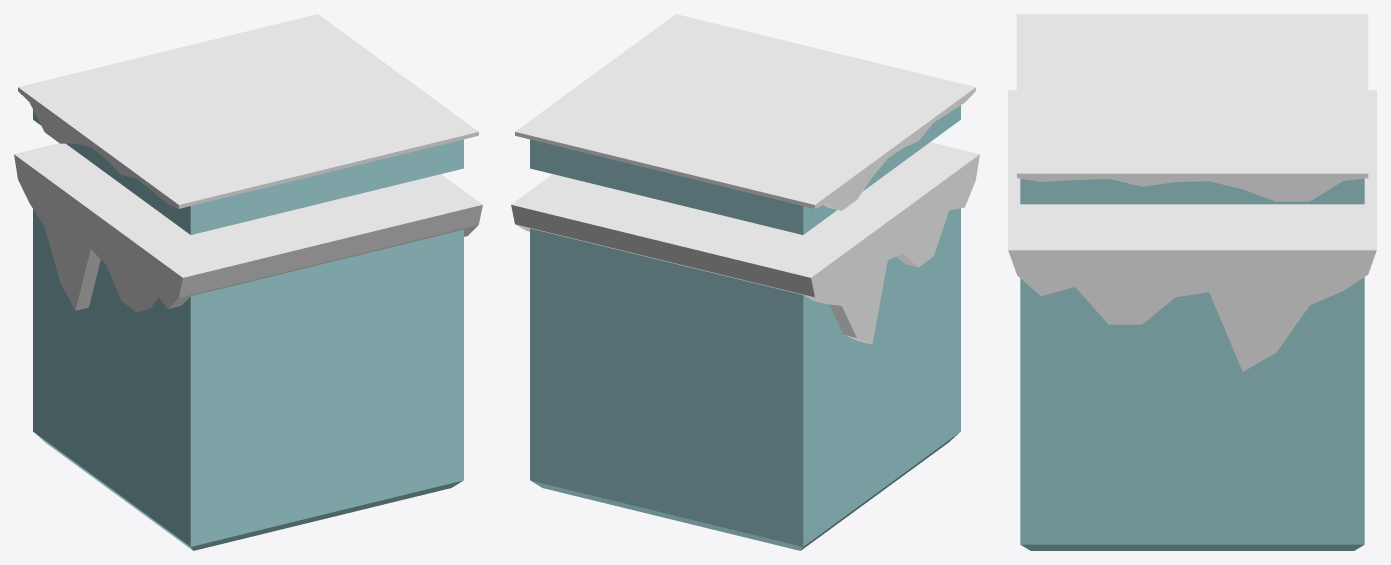
Rendered from JumpCube.fbx.
3 renders of one model, left to right at view 1: azimuth 30°, elevation 25°; view 2: azimuth 150°, elevation 25°; view 3: azimuth 270°, elevation 25°, orthographic. The views are drawn at different scales.
Visible parts, largest first — view 1: Cube, Rename; view 2: Cube, Rename; view 3: Cube, Rename.
Part boxes in pixels (box(x1,y1,x2,y2)): Cube: box(14, 143, 482, 550); Rename: box(18, 14, 478, 234); Cube: box(511, 142, 979, 550); Rename: box(515, 14, 975, 234); Cube: box(1008, 90, 1376, 550); Rename: box(1016, 14, 1368, 204).
Size of the model in its own units: 220 by 249 by 214.
